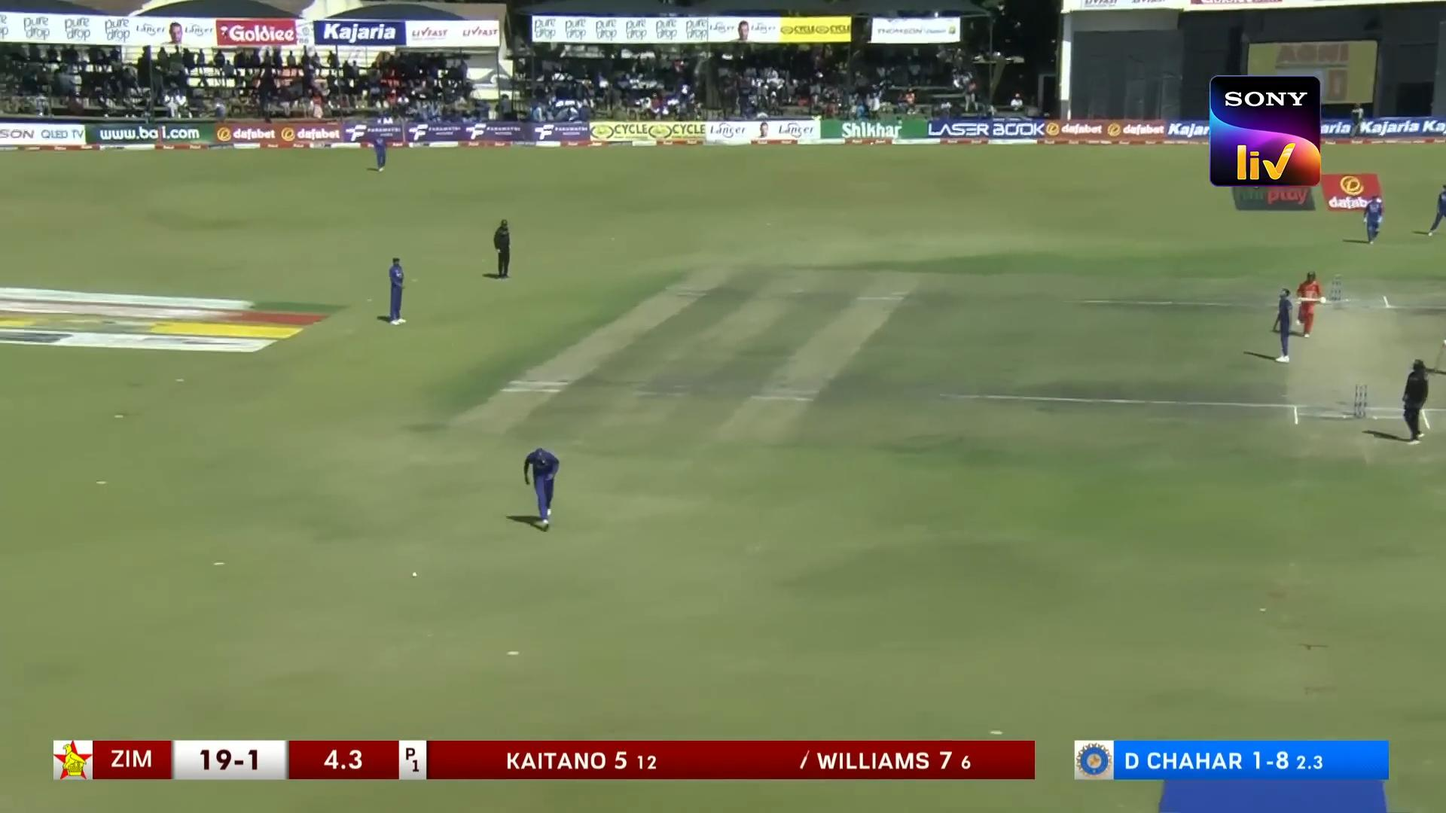batsman: (1295, 271, 1326, 337)
